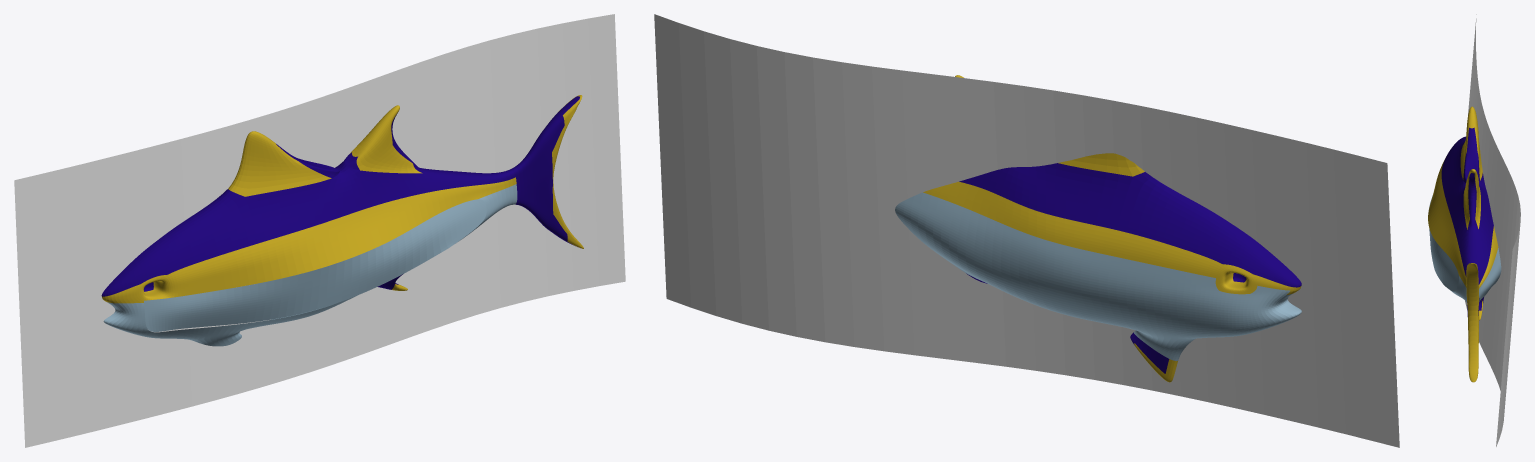
The model's file is Tuna.fbx.
The picture shows the model from 3 angles, left to right: view 1: azimuth 30°, elevation 25°; view 2: azimuth 150°, elevation 25°; view 3: azimuth 270°, elevation 25°; orthographic projection. The views are drawn at different scales.
Parts seen in each view (by area): view 1: Plane, Kubus; view 2: Plane, Kubus; view 3: Kubus, Plane.
Boxes of the visible parts, bbox=[...] form: Plane: bbox=[14, 14, 625, 447]; Kubus: bbox=[101, 95, 583, 346]; Plane: bbox=[654, 14, 1399, 447]; Kubus: bbox=[895, 75, 1301, 382]; Kubus: bbox=[1428, 106, 1501, 382]; Plane: bbox=[1465, 14, 1520, 446].
Bounding box in the file's own units: 605 × 244 × 102.
